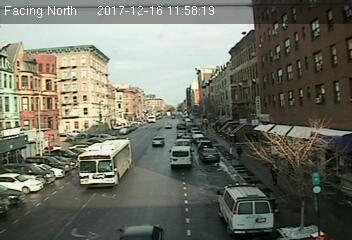bus: (75, 137, 131, 191)
car: (201, 148, 218, 160), (151, 136, 164, 145)
pedestrian: (269, 164, 281, 189)
police: (219, 182, 273, 234)
truck: (170, 145, 192, 169)
